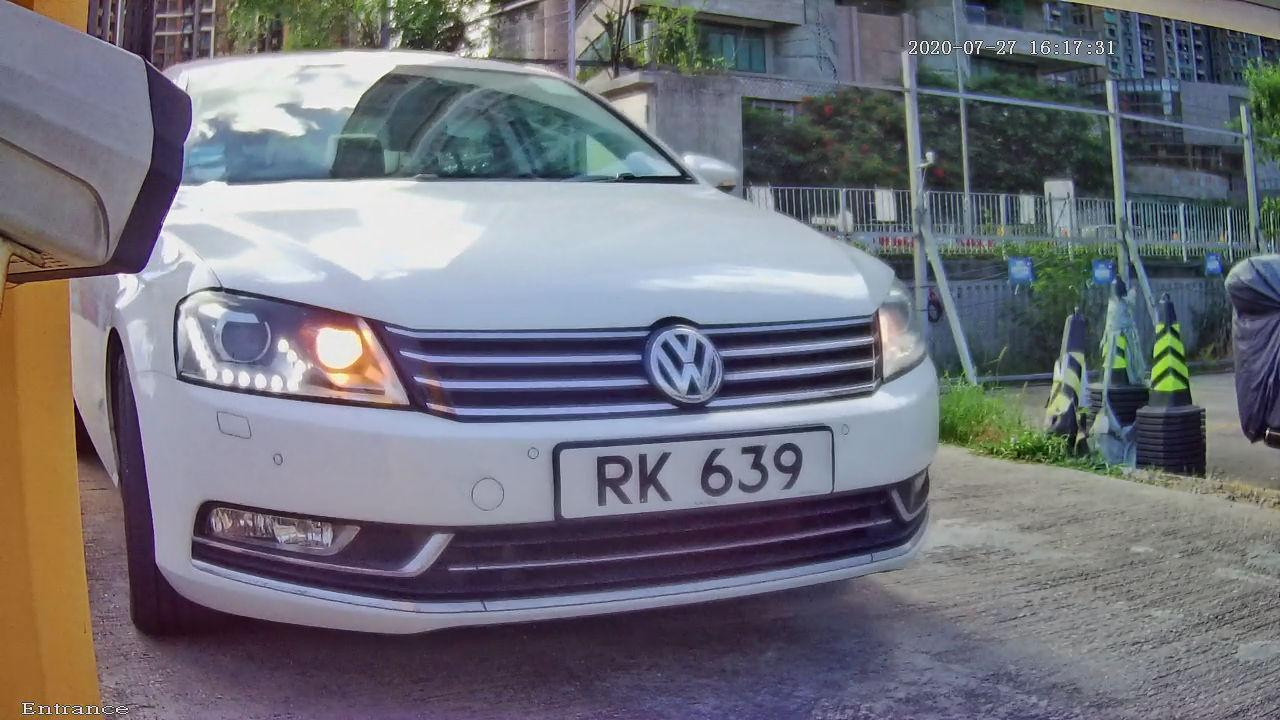privatecar: (75, 23, 1086, 659)
